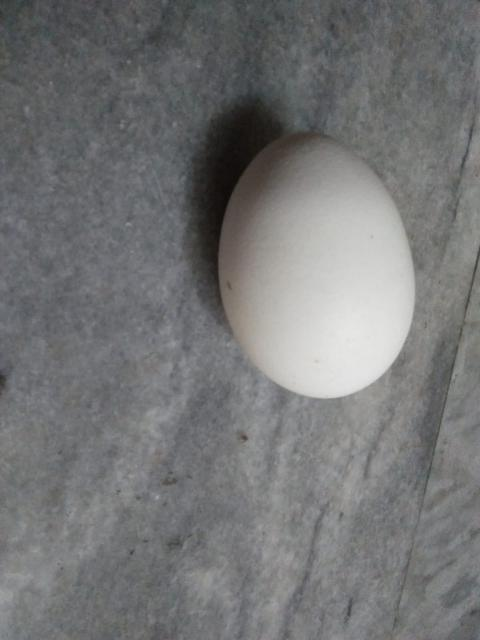Sano: (215, 131, 415, 399)
